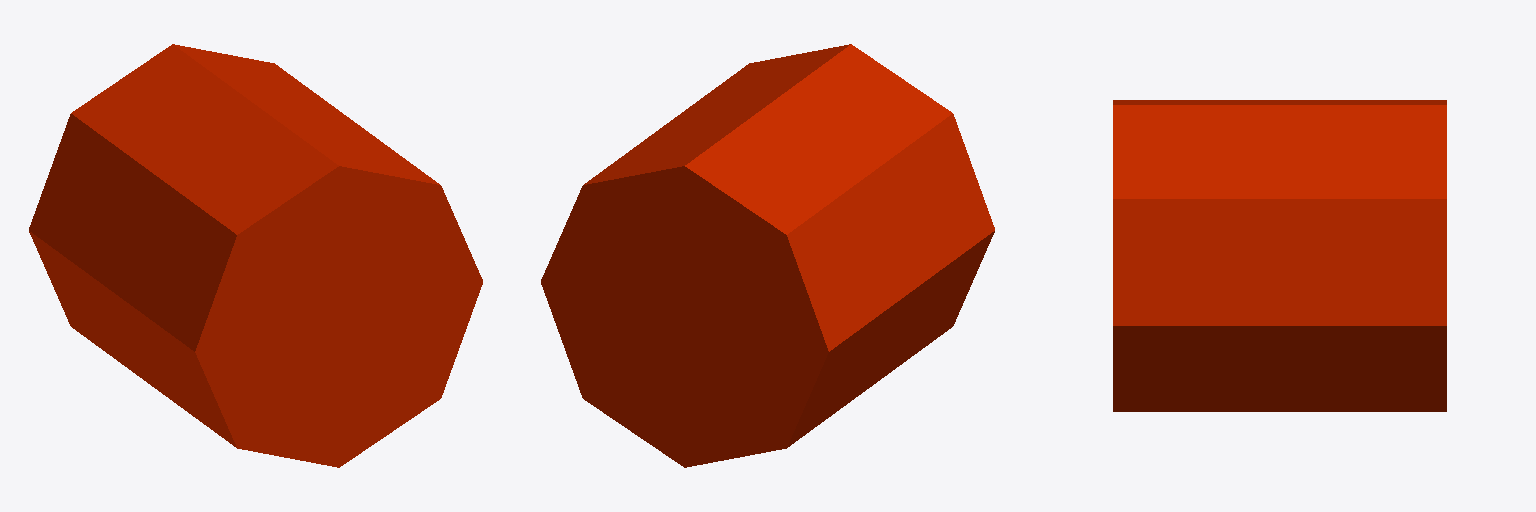
Rendered from rope.obj.
3 views of the same model, side by side, from view 1: azimuth 30°, elevation 25°; view 2: azimuth 150°, elevation 25°; view 3: azimuth 270°, elevation 25° (orthographic).
Parts seen in each view (by area): view 1: rope_Cylinder.002; view 2: rope_Cylinder.002; view 3: rope_Cylinder.002.
Boxes of the visible parts, <box> form: rope_Cylinder.002: <box>29,44,482,467</box>; rope_Cylinder.002: <box>541,44,994,467</box>; rope_Cylinder.002: <box>1113,100,1446,411</box>.
Bounding box in the file's own units: 0.2 × 0.2 × 0.2.